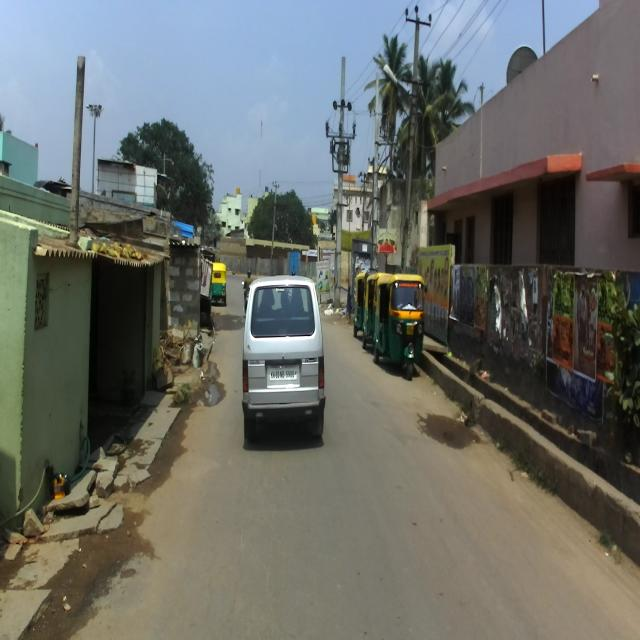auto ahead at: (378, 270, 426, 384)
car ahead at: (245, 279, 328, 434)
